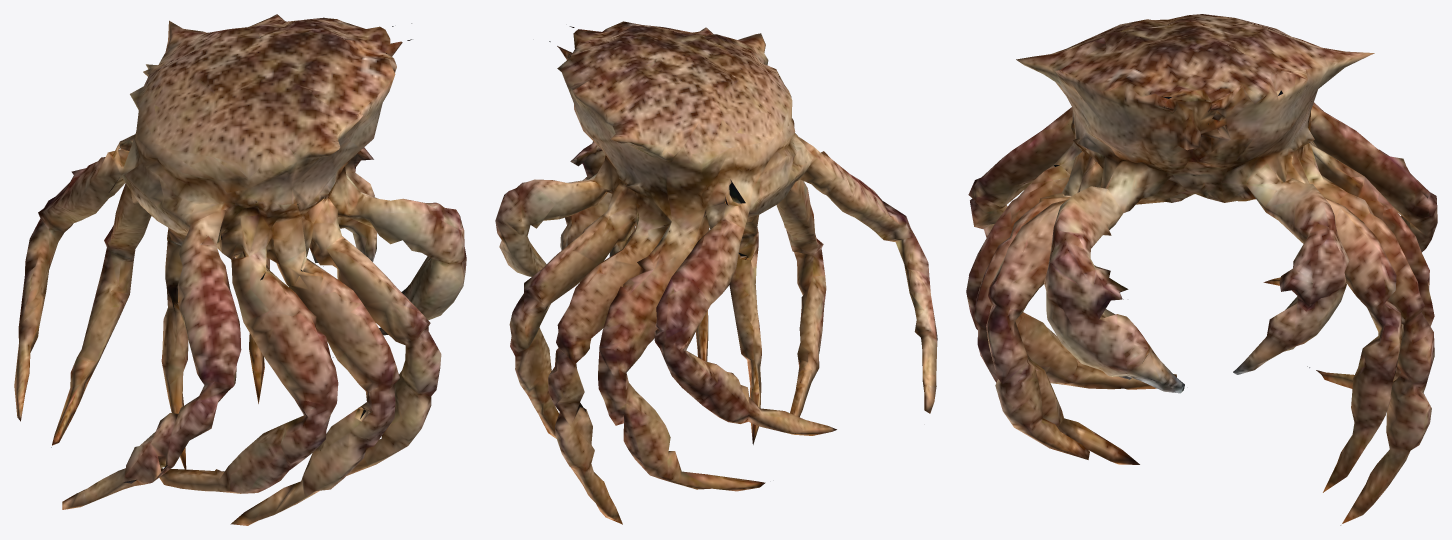
File: scan_crab_helmet.glb
3 views of the same model, side by side, from view 1: azimuth 30°, elevation 25°; view 2: azimuth 150°, elevation 25°; view 3: azimuth 270°, elevation 25° (orthographic). The views are drawn at different scales.
Parts seen in each view (by area): view 1: scan_crab_helmet; view 2: scan_crab_helmet; view 3: scan_crab_helmet.
Part boxes in pixels (bbox=[...]): scan_crab_helmet: bbox=[14, 14, 466, 525]; scan_crab_helmet: bbox=[495, 21, 937, 524]; scan_crab_helmet: bbox=[966, 14, 1437, 525].
Bounding box in the file's own units: 0.1213 × 0.1385 × 0.1156.
Materials: 1 (1 with a texture image).
